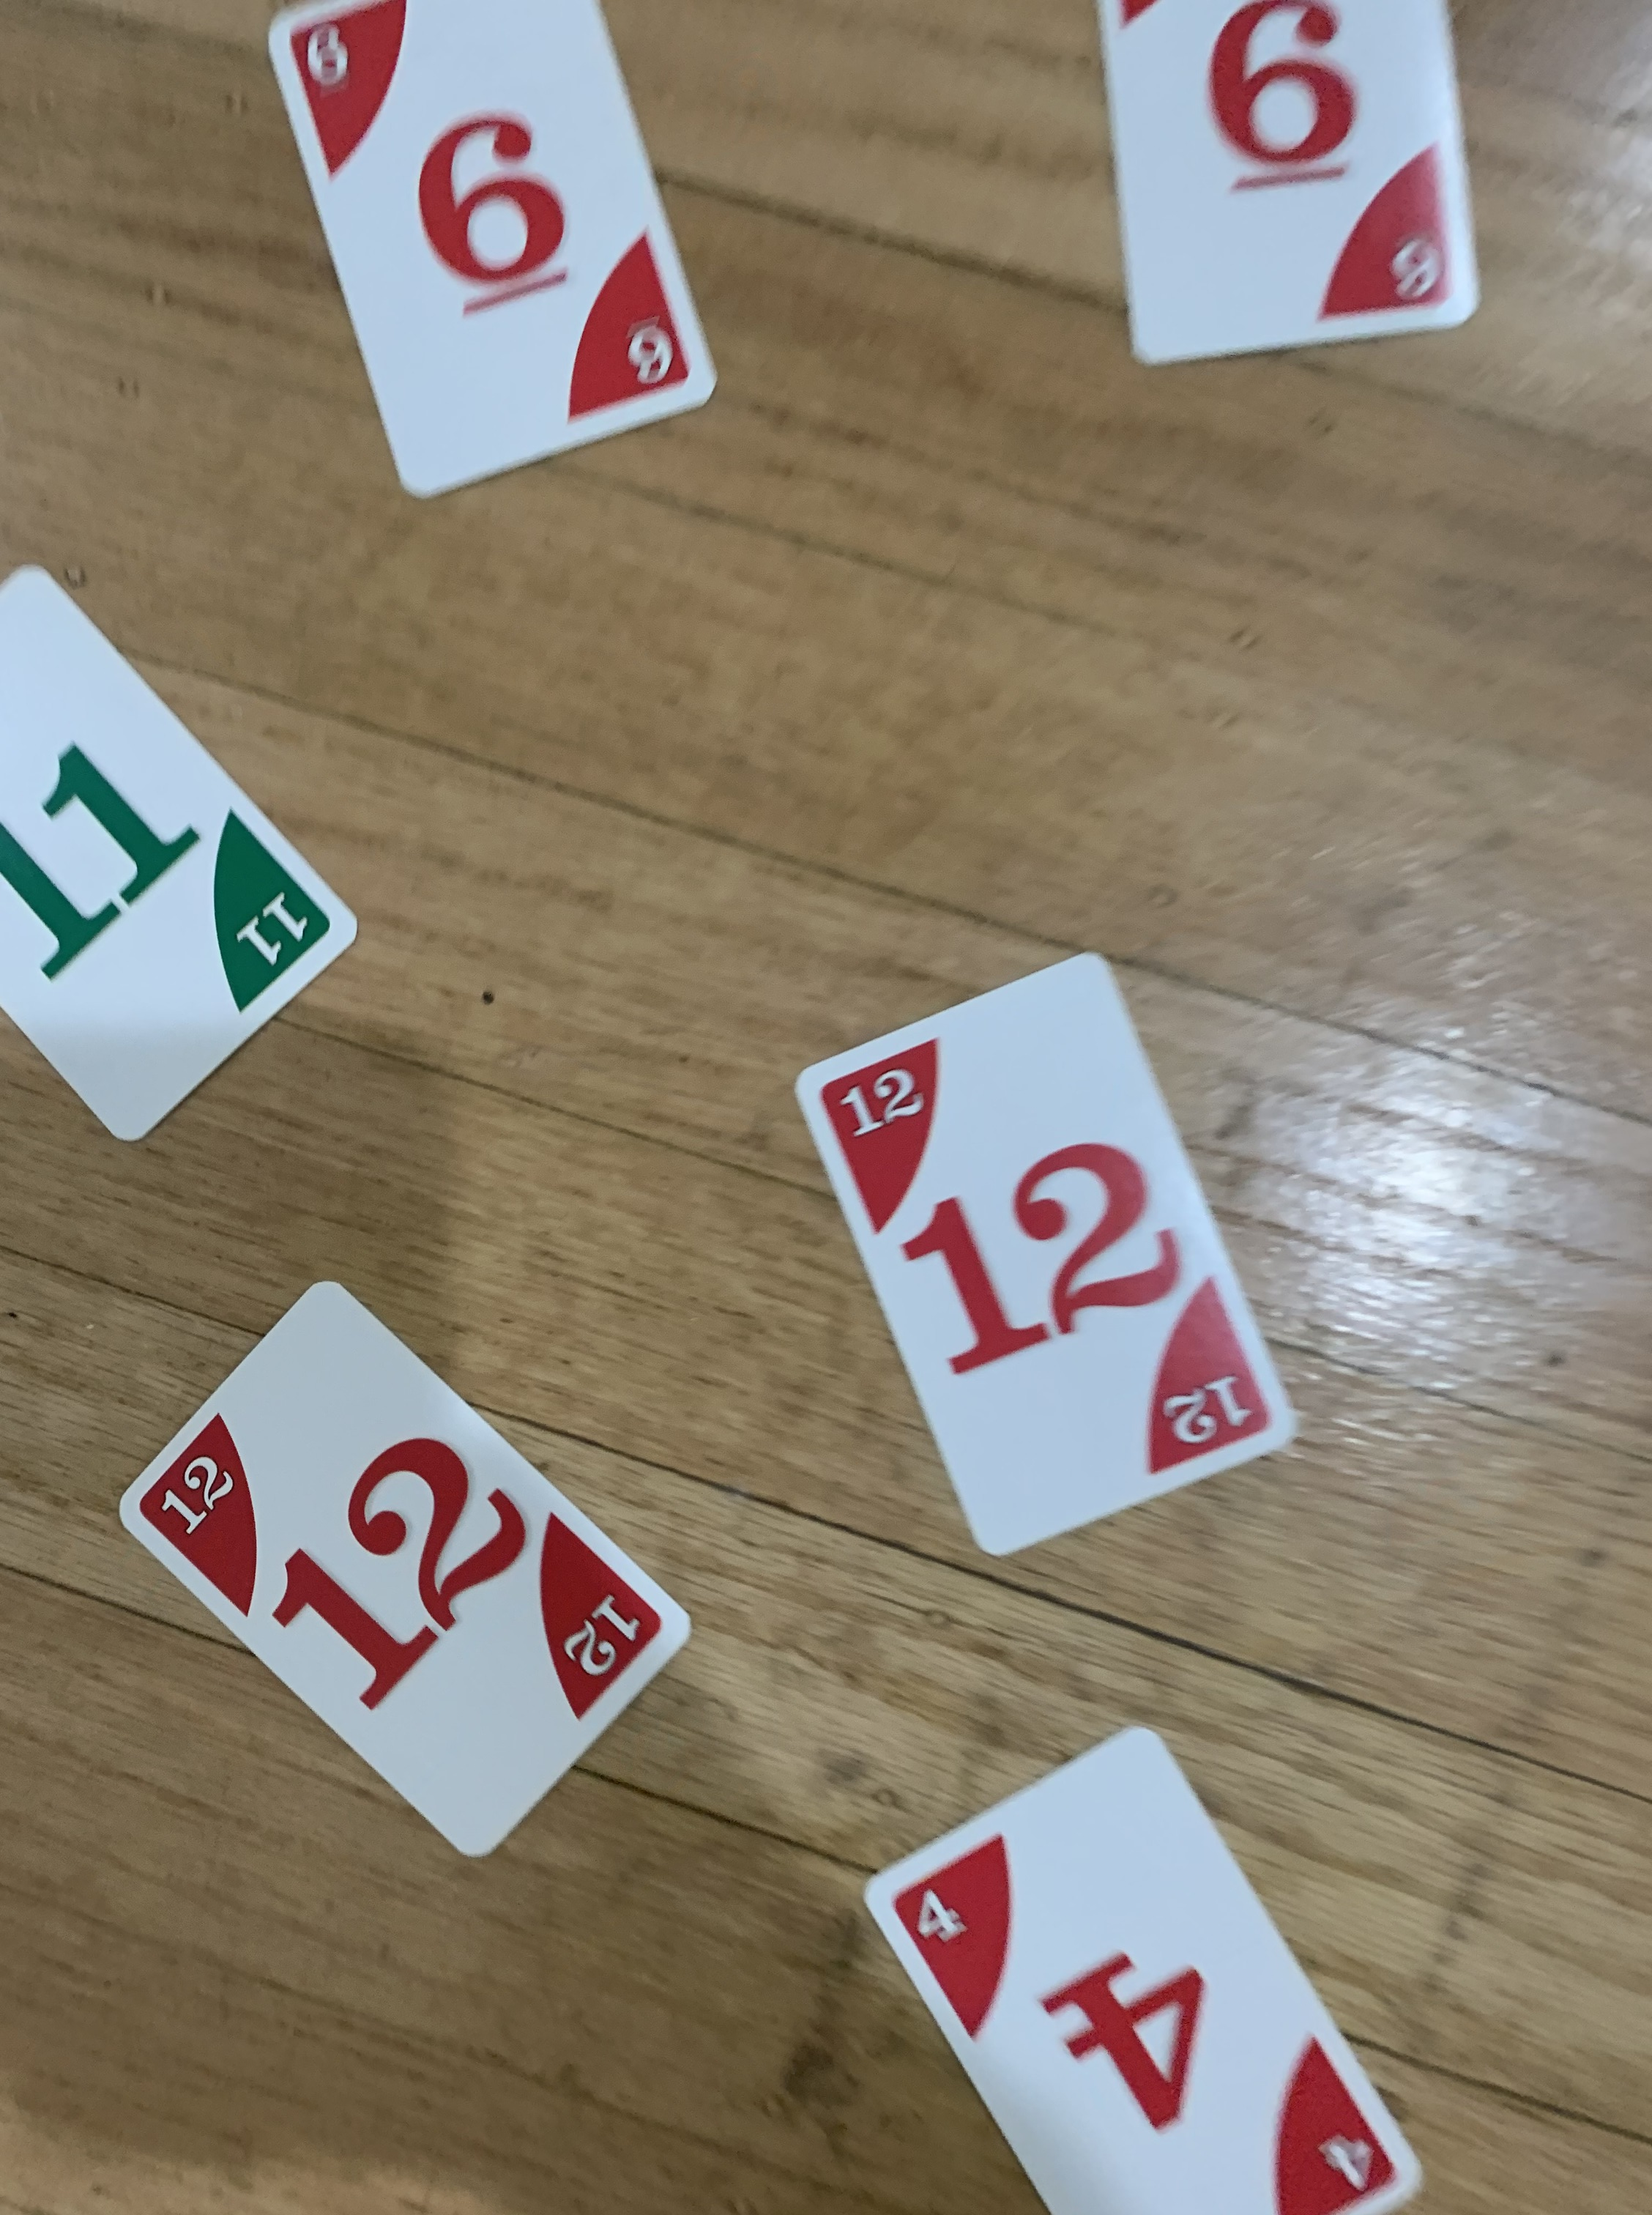eleven: (0, 519, 373, 1168)
four: (838, 1705, 1423, 2215)
six: (243, 0, 727, 512), (1114, 0, 1518, 398)
twelve: (99, 1274, 703, 1868), (767, 939, 1303, 1562)
